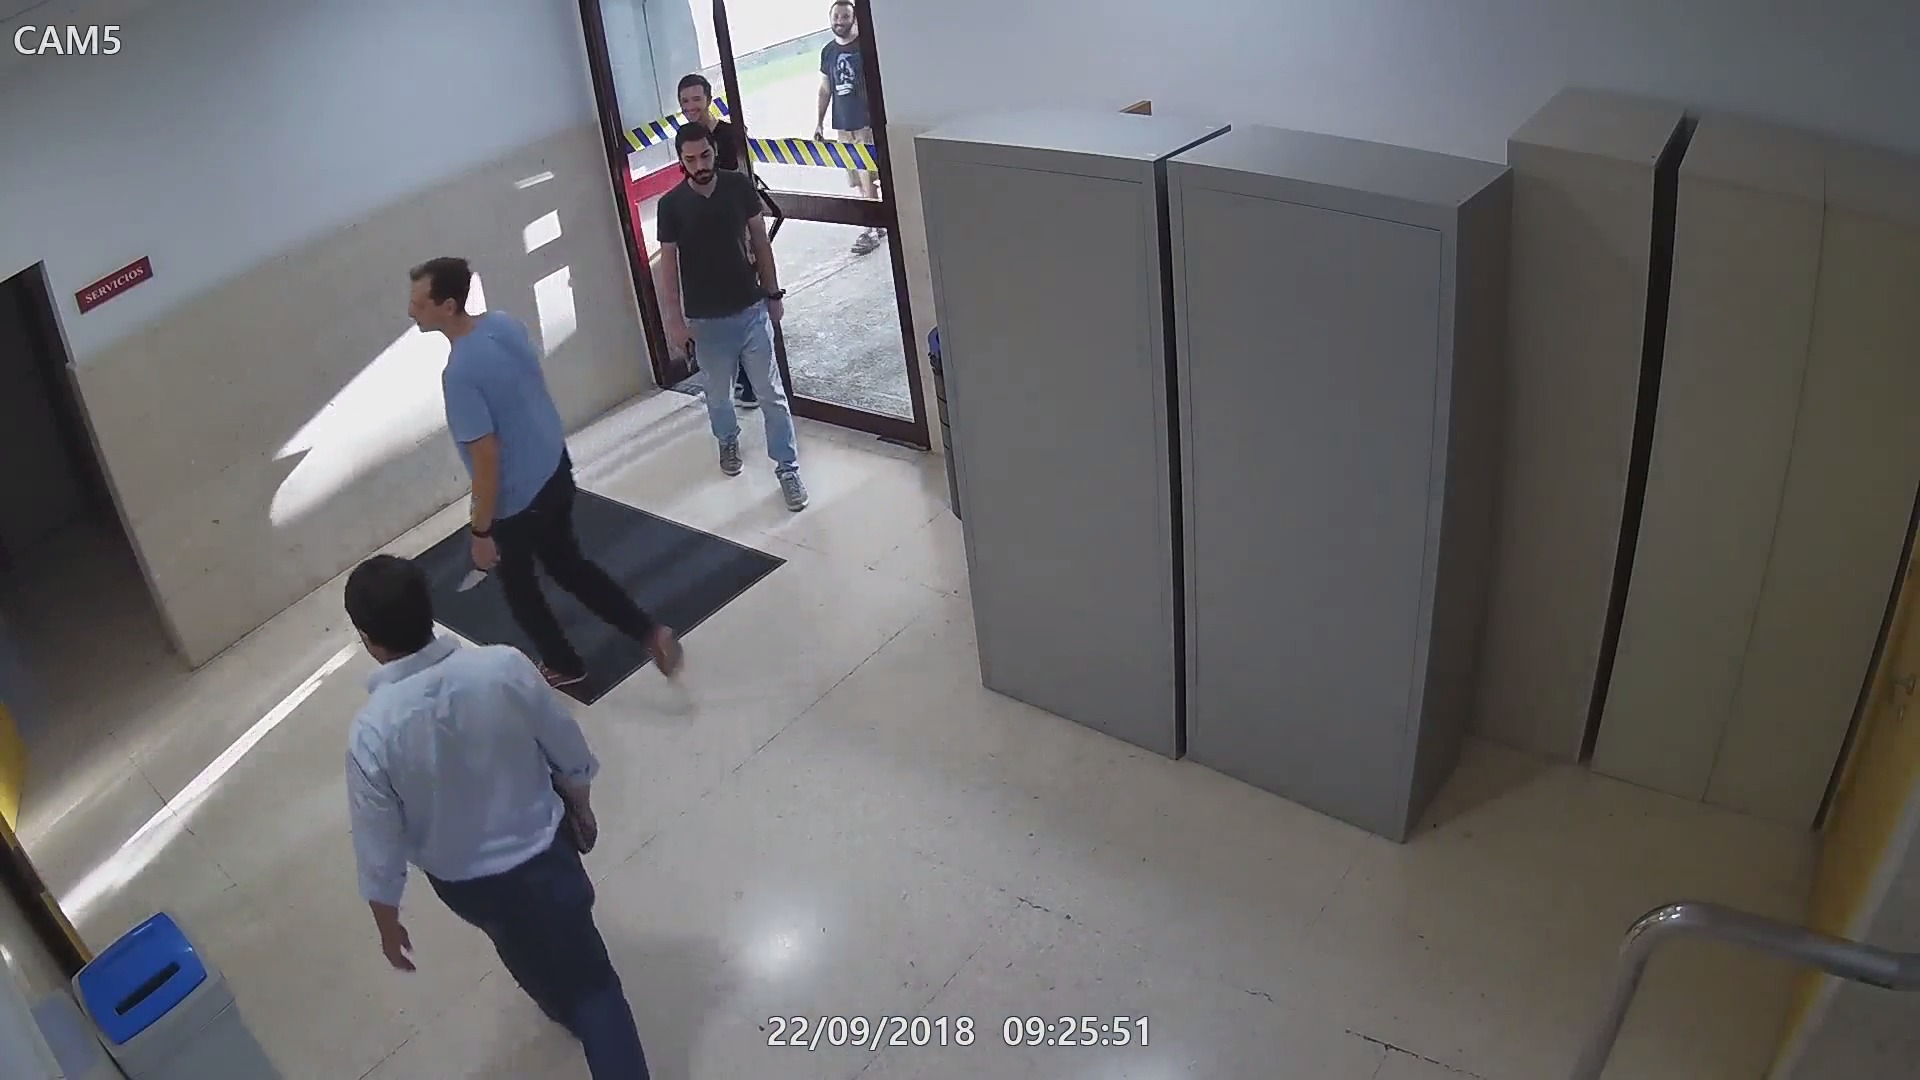Handgun: (551, 774, 591, 855), (667, 319, 699, 375)
Knife: (454, 534, 502, 601)
